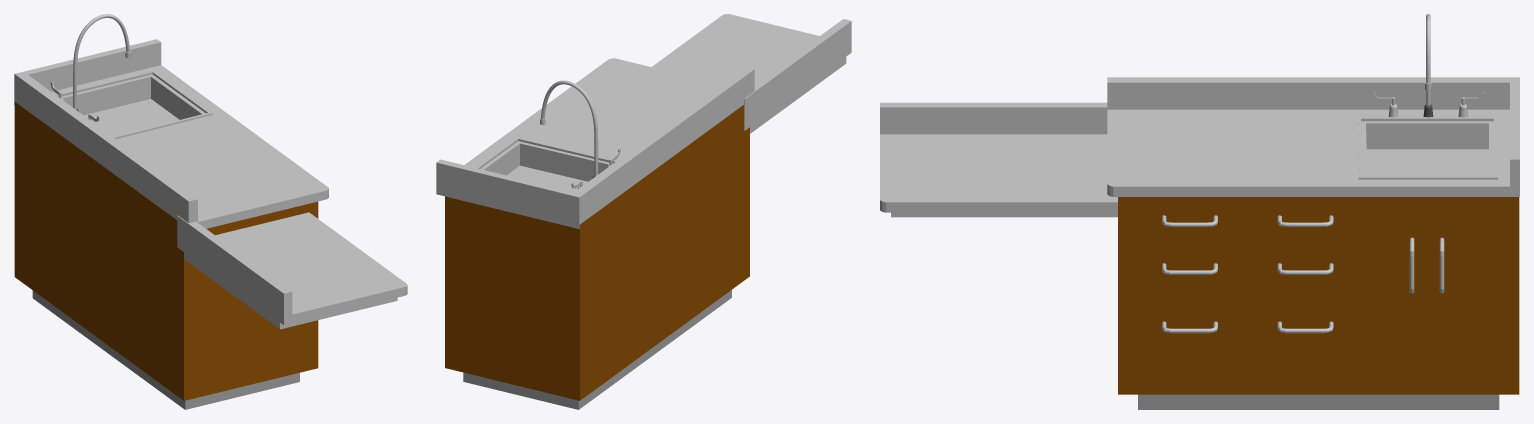
Rendered from Hospital_Desk.fbx.
3 views of the same model, side by side, from view 1: azimuth 30°, elevation 25°; view 2: azimuth 150°, elevation 25°; view 3: azimuth 270°, elevation 25° (orthographic). The views are drawn at different scales.
Parts seen in each view (by area): view 1: Desk, Countertop, OverhangCountertop, Overhang, Cylinder.001; view 2: Desk, Countertop, OverhangCountertop, Overhang, Cylinder.001; view 3: Desk, Countertop, OverhangCountertop, Overhang.
Boxes of the visible parts, x1=… form: Desk: x1=14, y1=102, x2=318, y2=409; Countertop: x1=14, y1=39, x2=328, y2=228; OverhangCountertop: x1=177, y1=212, x2=407, y2=325; Overhang: x1=184, y1=252, x2=397, y2=329; Cylinder.001: x1=73, y1=14, x2=129, y2=109; Desk: x1=445, y1=105, x2=749, y2=409; Countertop: x1=436, y1=58, x2=754, y2=228; OverhangCountertop: x1=651, y1=14, x2=851, y2=130; Overhang: x1=750, y1=57, x2=846, y2=133; Cylinder.001: x1=541, y1=80, x2=598, y2=176; Desk: x1=1118, y1=197, x2=1519, y2=409; Countertop: x1=1107, y1=77, x2=1519, y2=196; OverhangCountertop: x1=880, y1=102, x2=1117, y2=212; Overhang: x1=891, y1=212, x2=1117, y2=217.
Bounding box in the file's own units: 89 × 168 × 279.
